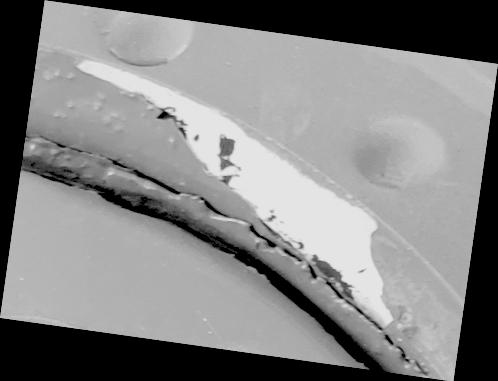paint-off: (1, 1, 498, 381)
